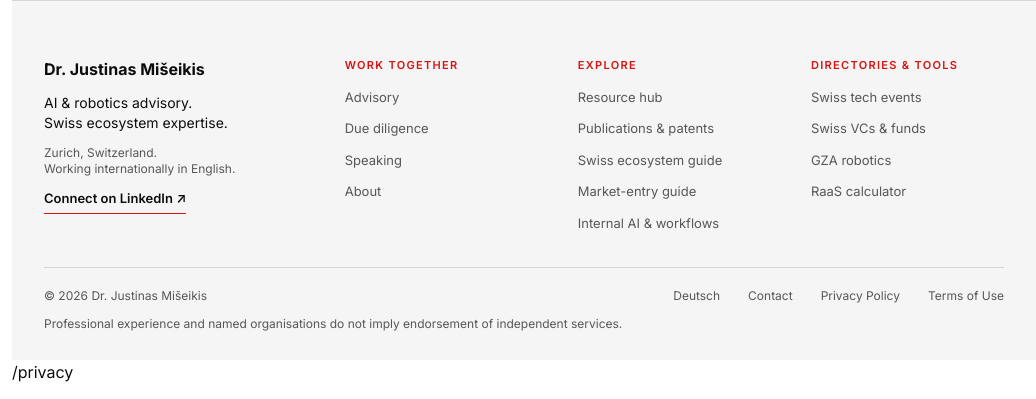
Test: Footer › sends the footer Contact link to the home page form when used on another page
The width and height of the screenshot is (1036, 399).
Step 1. Click the link "Contact" → x=770, y=296, box x1=748 y1=288 x2=793 y2=304
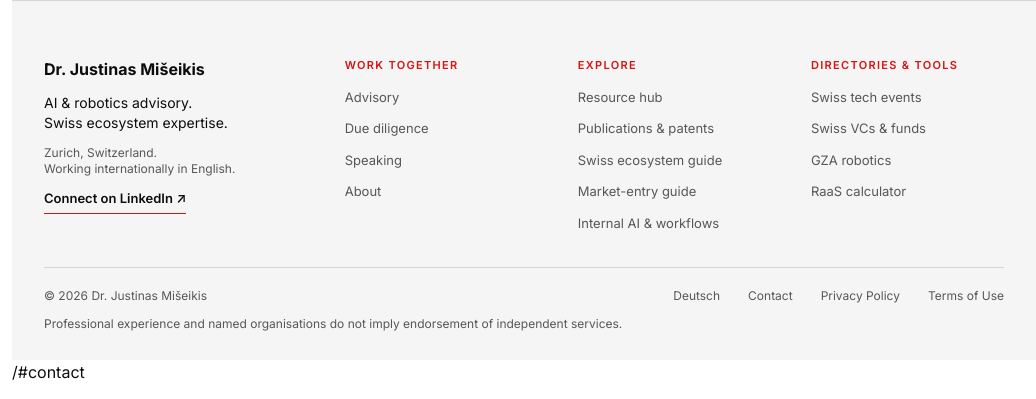
Expected: the text with test id "where" reads "/#contact", x1=12 y1=362 x2=85 y2=382
